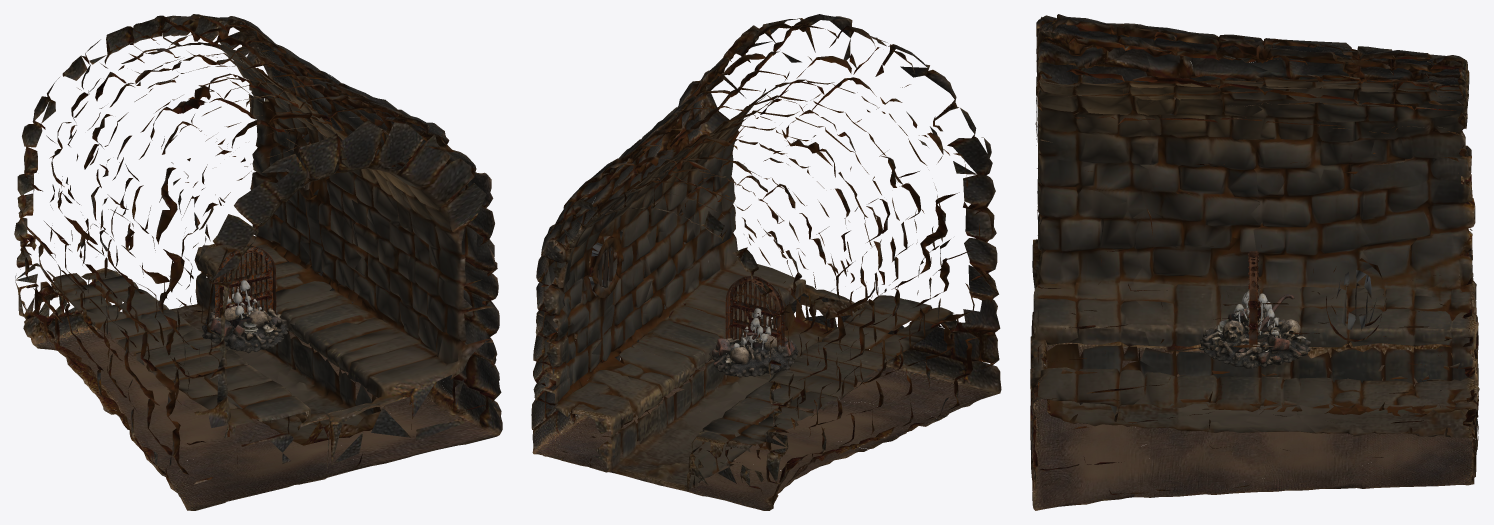
The model's file is sewer_kit.glb.
The picture shows the model from 3 angles, left to right: view 1: azimuth 30°, elevation 25°; view 2: azimuth 150°, elevation 25°; view 3: azimuth 270°, elevation 25°; orthographic projection. The views are drawn at different scales.
Visible parts, largest first — view 1: tunnel, bones, grate, fungus; view 2: tunnel, bones, grate, fungus; view 3: tunnel, bones, fungus, grate.
Boxes of the visible parts, x1,y1,x2,y2 form: tunnel: (14, 14, 502, 510); bones: (202, 281, 288, 353); grate: (215, 245, 276, 321); fungus: (223, 280, 270, 341); tunnel: (531, 14, 1001, 510); bones: (712, 331, 798, 377); grate: (725, 275, 784, 347); fungus: (726, 308, 776, 366); tunnel: (1030, 14, 1479, 510); bones: (1199, 294, 1311, 368); fungus: (1217, 290, 1279, 360); grate: (1248, 251, 1260, 360).
Bounding box in the file's own units: 5.42 × 5.8 × 6.
4 materials, 4 textured.
